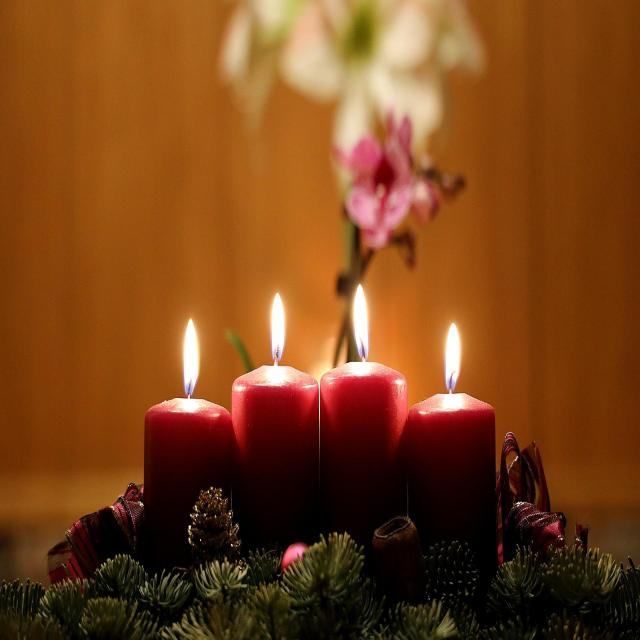Fire_Save: (142, 282, 497, 572), (319, 282, 408, 540), (230, 290, 320, 544), (142, 316, 236, 545)
